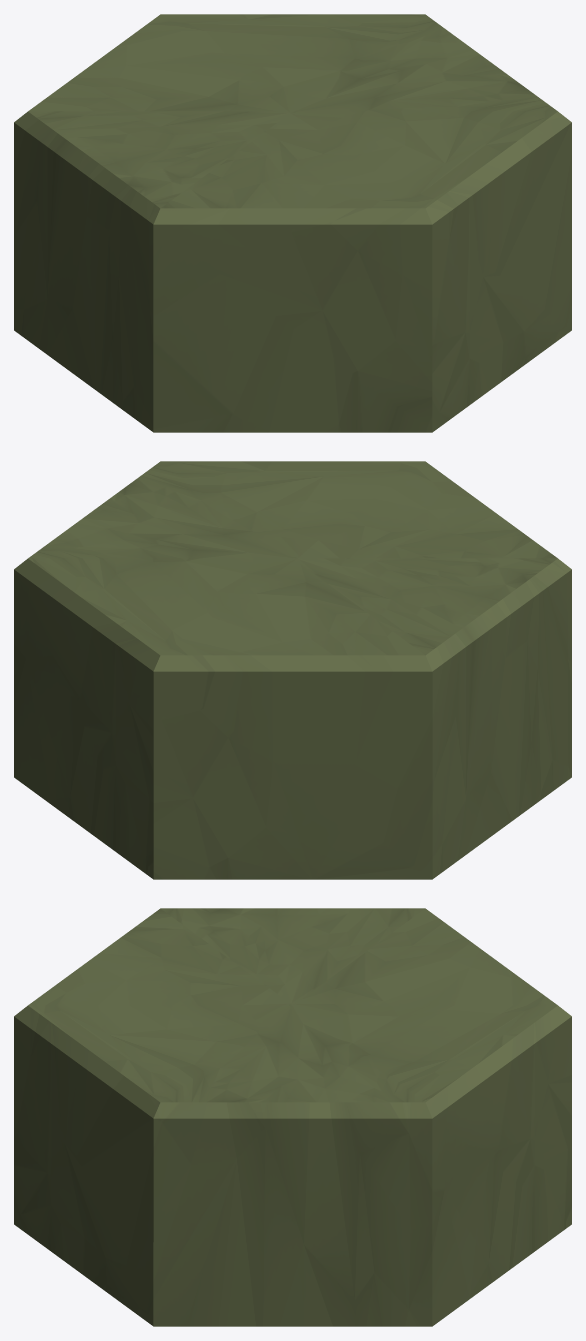
File: hex_grass.glb
The picture shows the model from 3 angles, top to bottom: view 1: azimuth 30°, elevation 25°; view 2: azimuth 150°, elevation 25°; view 3: azimuth 270°, elevation 25°; orthographic projection.
Parts seen in each view (by area): view 1: hex_grass; view 2: hex_grass; view 3: hex_grass.
Boxes of the visible parts, x1,y1,x2,y2 form: hex_grass: (14, 14, 571, 432); hex_grass: (14, 461, 571, 879); hex_grass: (14, 908, 571, 1326).
Size of the model in its own units: 2 by 1 by 2.31.
Materials: 1 (1 with a texture image).
